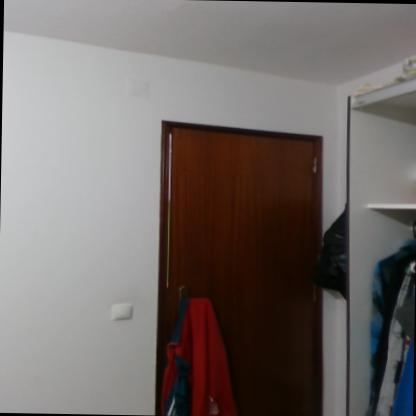closed: (143, 109, 374, 415)
